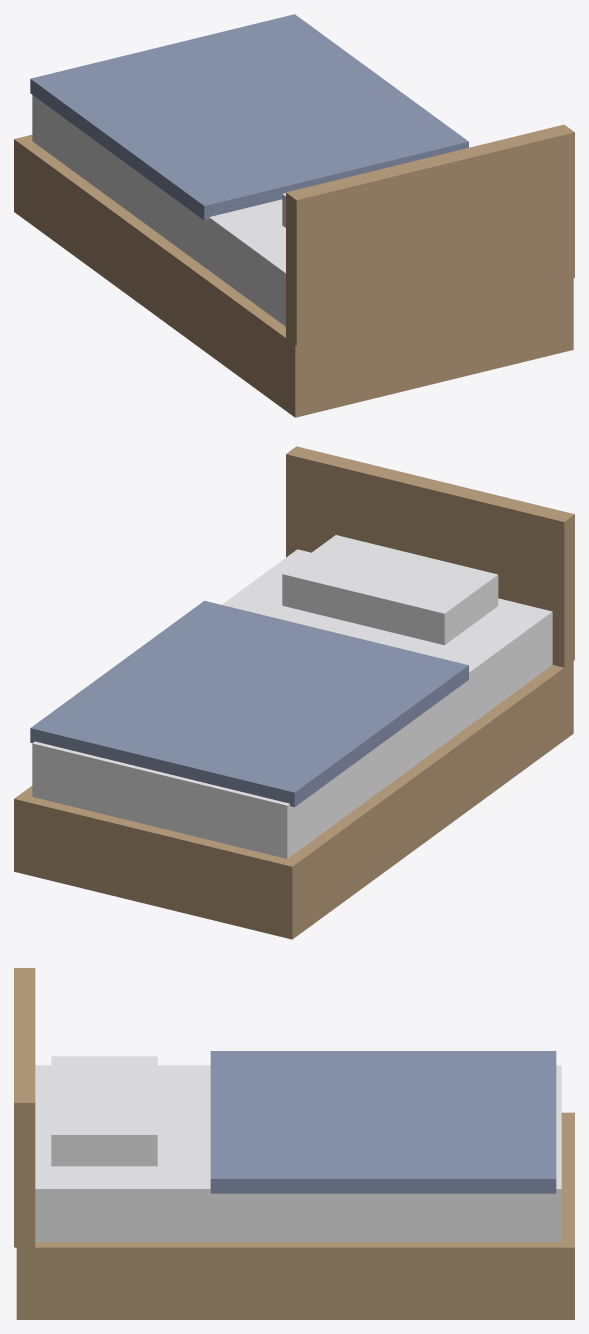
File: Bed.fbx
3 views of the same model, one above another, from view 1: azimuth 30°, elevation 25°; view 2: azimuth 150°, elevation 25°; view 3: azimuth 270°, elevation 25° (orthographic).
Visible parts, largest first — view 1: Bed_Mesh; view 2: Bed_Mesh; view 3: Bed_Mesh.
Boxes of the visible parts, bbox=[...] form: Bed_Mesh: bbox=[14, 14, 574, 417]; Bed_Mesh: bbox=[14, 446, 574, 939]; Bed_Mesh: bbox=[14, 968, 574, 1319].
Bounding box in the file's own units: 1.2 × 2.11 × 0.9.
